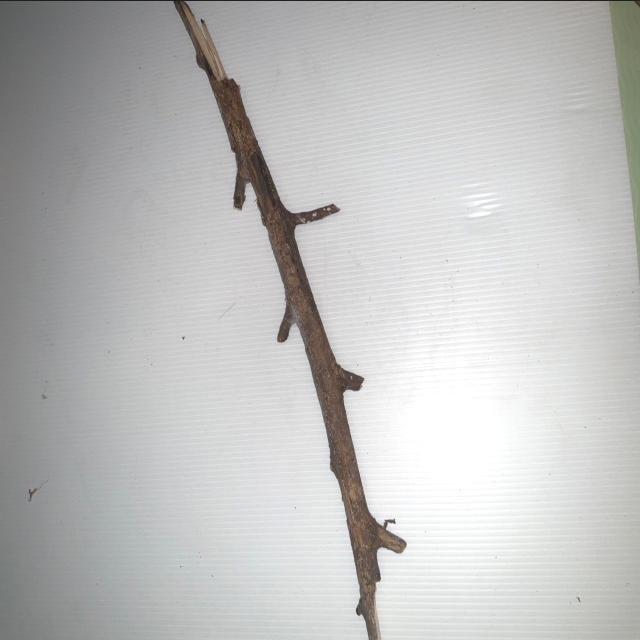Sharps: (172, 1, 406, 638)
